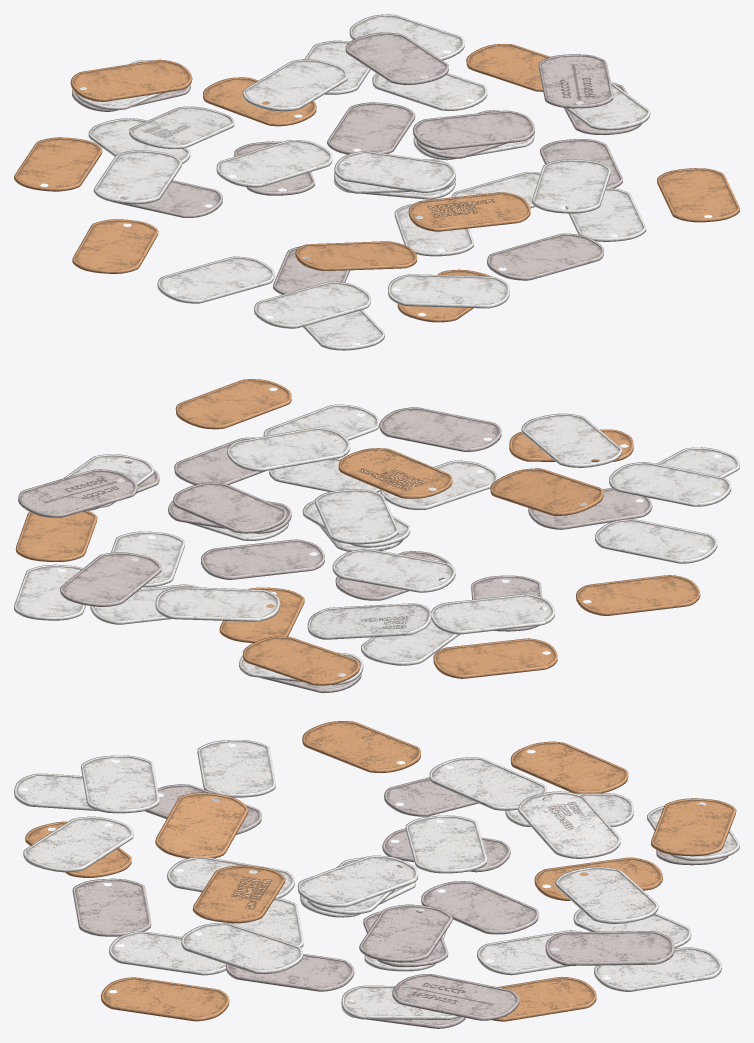
Rendered from DogTag_clutter_Item.fbx.
The picture shows the model from 3 angles, top to bottom: view 1: azimuth 30°, elevation 25°; view 2: azimuth 150°, elevation 25°; view 3: azimuth 270°, elevation 25°; orthographic projection. The views are drawn at different scales.
Parts seen in each view (by area): view 1: Dog_Tag_clutter_LOD0; view 2: Dog_Tag_clutter_LOD0; view 3: Dog_Tag_clutter_LOD0.
Part boxes in pixels (x1,y1,x2,y2): Dog_Tag_clutter_LOD0: (14,14,739,350); Dog_Tag_clutter_LOD0: (14,379,739,692); Dog_Tag_clutter_LOD0: (14,721,739,1028).
Size of what is drawn, in the model's own units: 25.28 by 0.6328 by 25.28.
3 materials, 3 textured.
